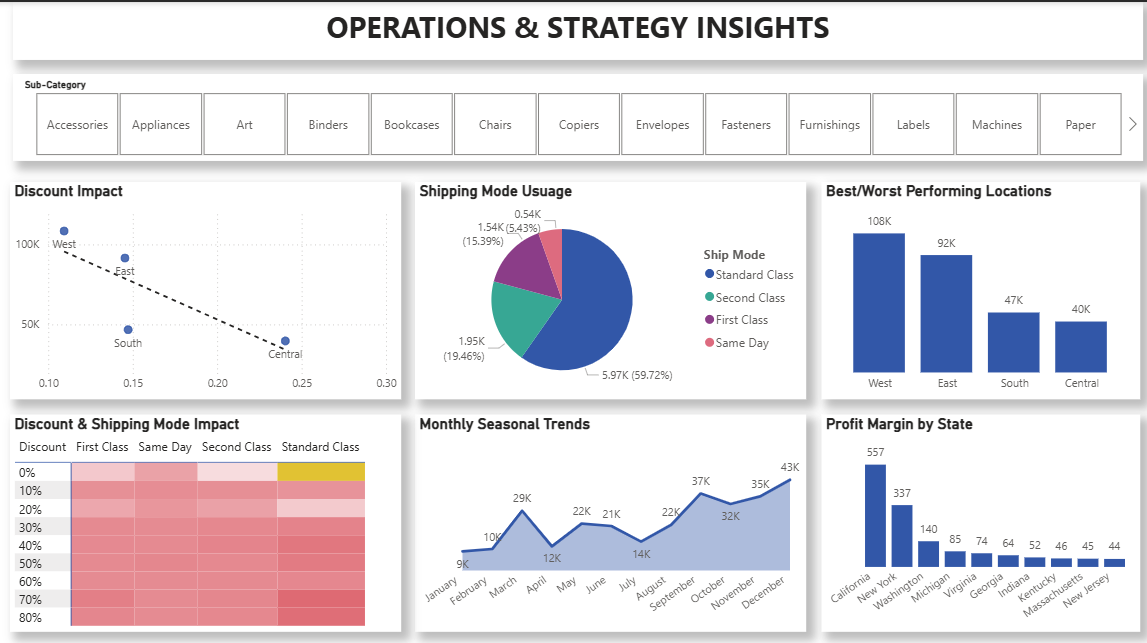

The dashboard page shown, as its layout file describes it:
{"tool":"powerbi","page":{"name":"Page 2","canvas":[1280,720],"ordinal":1},"visuals":[{"type":"textbox","box":[16,0,1248,64],"z":0},{"type":"scatterChart","title":"Discount Impact","fields":{"X":["Avg(Orders.Discount)"],"Y":["Sum(Orders.Profit)"],"Category":["Orders.Region"]},"box":[13.3,199.5,432,240],"z":1},{"type":"pieChart","title":"Shipping Mode Usuage","fields":{"Category":["Orders.Ship Mode"],"Y":["CountNonNull(Orders.Order ID)"]},"box":[461.3,199.5,432,240],"z":2},{"type":"lineChart","title":"Monthly Seasonal Trends","fields":{"Category":["Orders.Order Date.Variation.Date Hierarchy.Month"],"Y":["Sum(Orders.Profit)"]},"box":[461.3,455.5,432,240],"z":4},{"type":"clusteredColumnChart","title":"Best/Worst Performing Locations","fields":{"Y":["Sum(Orders.Profit)"],"Category":["Orders.Region"]},"box":[909.3,199.5,352,240],"z":5},{"type":"clusteredColumnChart","title":"Profit Margin by State","fields":{"Category":["Orders.State"],"Y":["Sum(Orders.Profit Margin)"]},"box":[909.3,455.5,352,240],"z":6},{"type":"pivotTable","title":"Discount & Shipping Mode Impact","fields":{"Rows":["Orders.Discount (groups)"],"Columns":["Orders.Ship Mode"],"Values":["Sum(Orders.Profit)"]},"box":[13.3,455.5,432,240],"z":7},{"type":"slicer","fields":{"Values":["Orders.Sub-Category"]},"box":[16,80,1248,96],"z":8}]}

Visuals, with their boxes in screenshot pixels (x1, y1, x2, y2), scaled from the page's 1280x720 canvas onto the 1147x643 screenshot:
textbox: (x1=14, y1=0, x2=1133, y2=57)
"Discount Impact" scatterChart: (x1=12, y1=178, x2=399, y2=392)
"Shipping Mode Usuage" pieChart: (x1=413, y1=178, x2=800, y2=392)
"Monthly Seasonal Trends" lineChart: (x1=413, y1=407, x2=800, y2=621)
"Best/Worst Performing Locations" clusteredColumnChart: (x1=815, y1=178, x2=1130, y2=392)
"Profit Margin by State" clusteredColumnChart: (x1=815, y1=407, x2=1130, y2=621)
"Discount & Shipping Mode Impact" pivotTable: (x1=12, y1=407, x2=399, y2=621)
slicer - Orders.Sub-Category: (x1=14, y1=71, x2=1133, y2=157)
